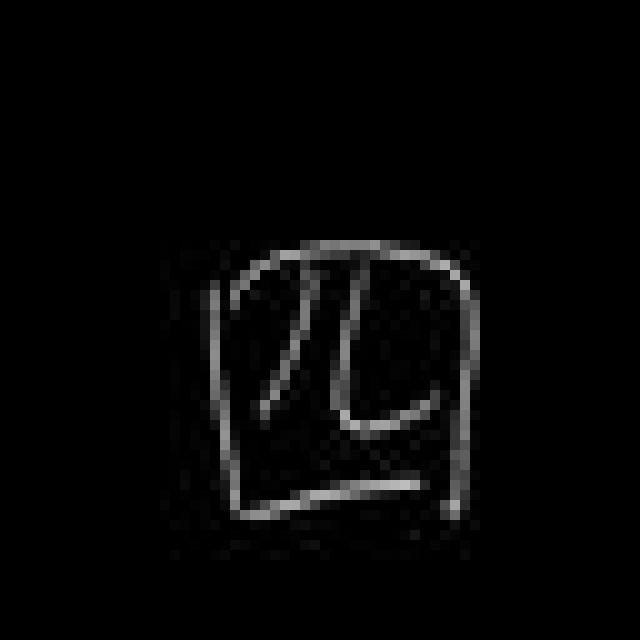4 -four-: (192, 222, 488, 538)
